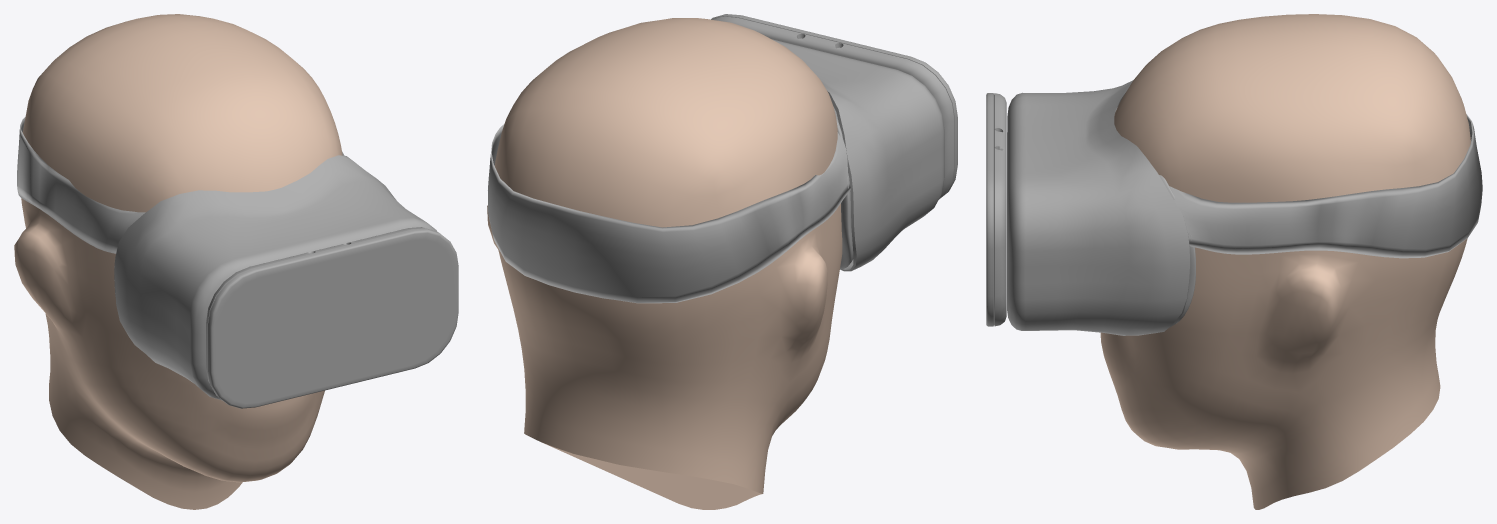
File: vrHead_01.fbx
3 views of the same model, side by side, from view 1: azimuth 30°, elevation 25°; view 2: azimuth 150°, elevation 25°; view 3: azimuth 270°, elevation 25° (orthographic). The views are drawn at different scales.
Parts seen in each view (by area): view 1: lift:basicHead, polySurface2, polySurface1, polySurface10; view 2: lift:basicHead, polySurface10, polySurface1, polySurface2, polySurface11; view 3: lift:basicHead, polySurface1, polySurface10, polySurface2.
Part boxes in pixels (box(x1,y1,x2,y2)): lift:basicHead: box(14, 14, 342, 509); polySurface2: box(206, 227, 458, 408); polySurface1: box(114, 155, 436, 400); polySurface10: box(17, 117, 344, 253); lift:basicHead: box(487, 18, 842, 509); polySurface10: box(488, 124, 850, 303); polySurface1: box(772, 39, 944, 271); polySurface2: box(711, 14, 957, 199); polySurface11: box(833, 107, 853, 269); lift:basicHead: box(1100, 14, 1470, 509); polySurface1: box(1007, 80, 1190, 335); polySurface10: box(1169, 114, 1482, 258); polySurface2: box(986, 93, 1006, 326).
Bounding box in the file's own units: 15.9 × 21.94 × 21.01.
